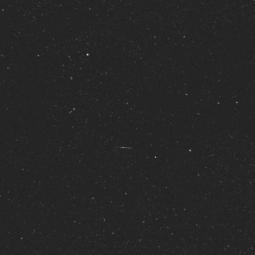debris: (105, 140, 138, 171)
